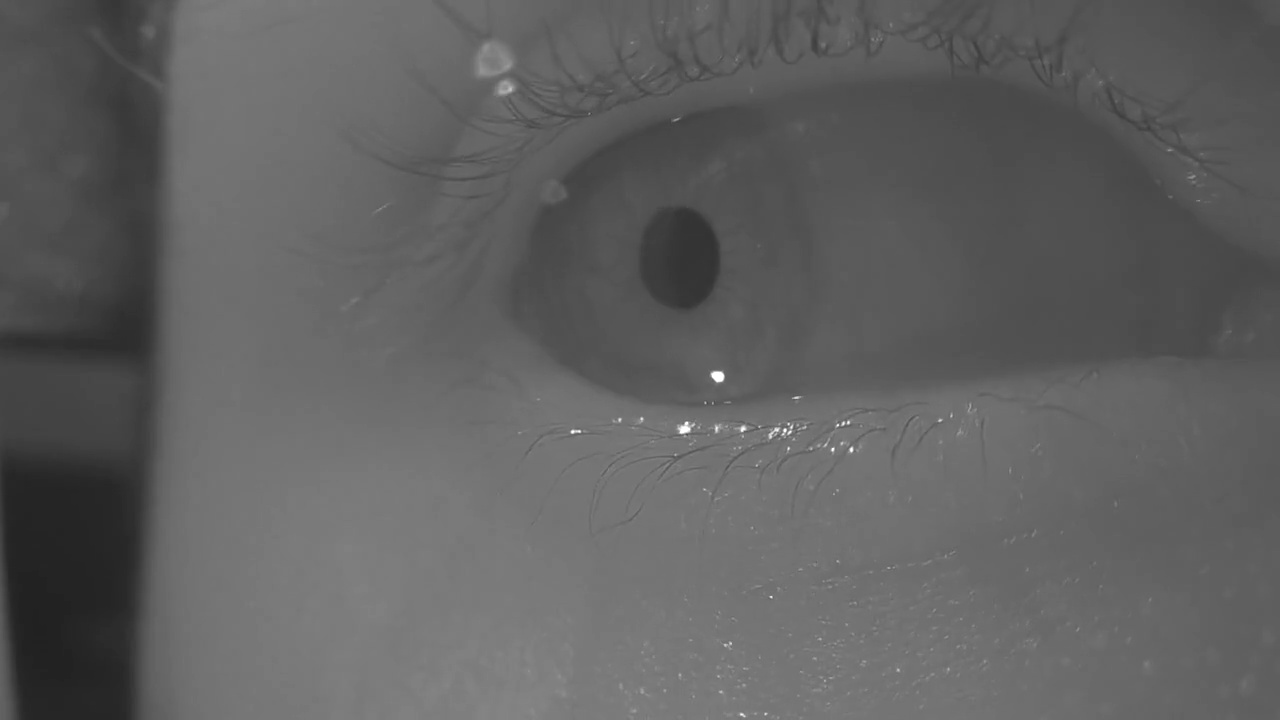pupil: (640, 206, 717, 311)
